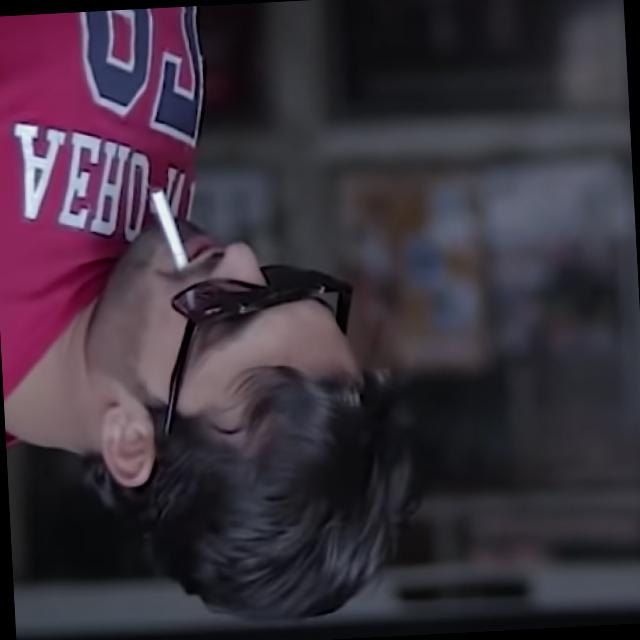cigarette: (142, 168, 214, 281)
